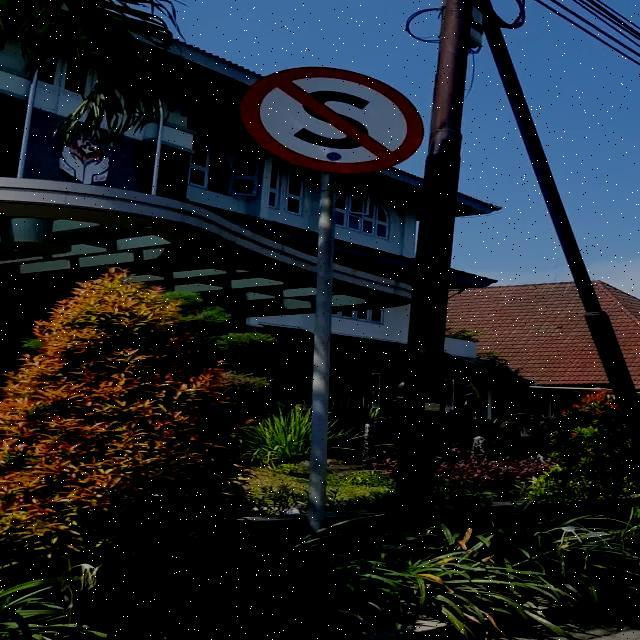Dilarang Berhenti: (240, 66, 424, 173)
